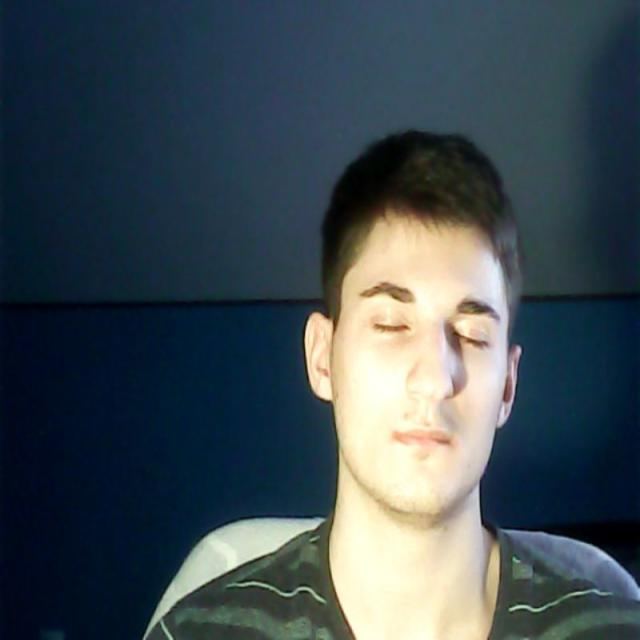Eyeclosed: (454, 321, 492, 358), (374, 313, 411, 342)
